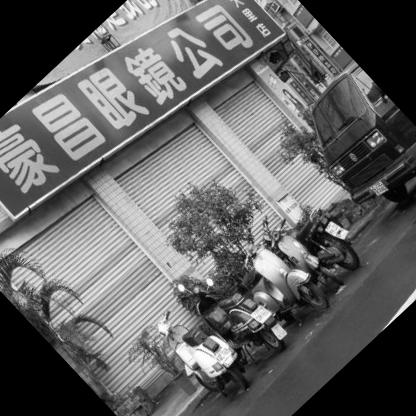car: (270, 53, 416, 248)
moto: (136, 285, 264, 415), (216, 218, 339, 343), (177, 253, 298, 377)
